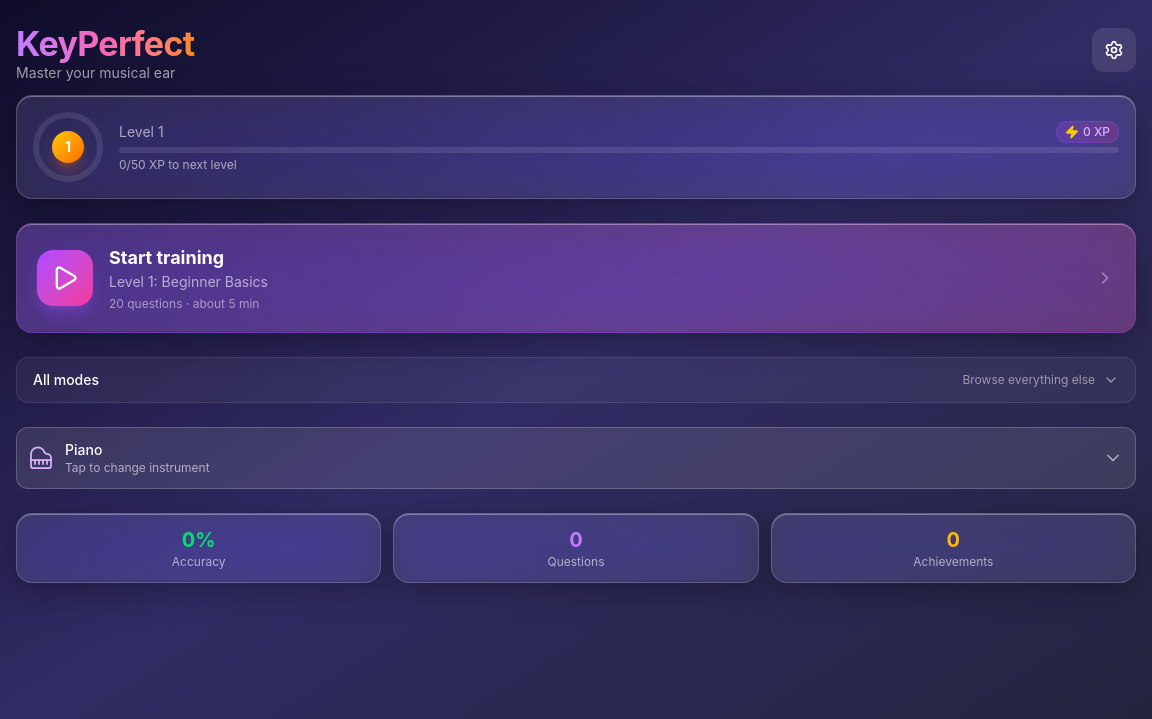
HomeScreen tile naming › offers each kind of training under exactly one name
Click the button "All modes Browse everything else": point(66, 380) [16,357,1136,403]
(page scrolled)
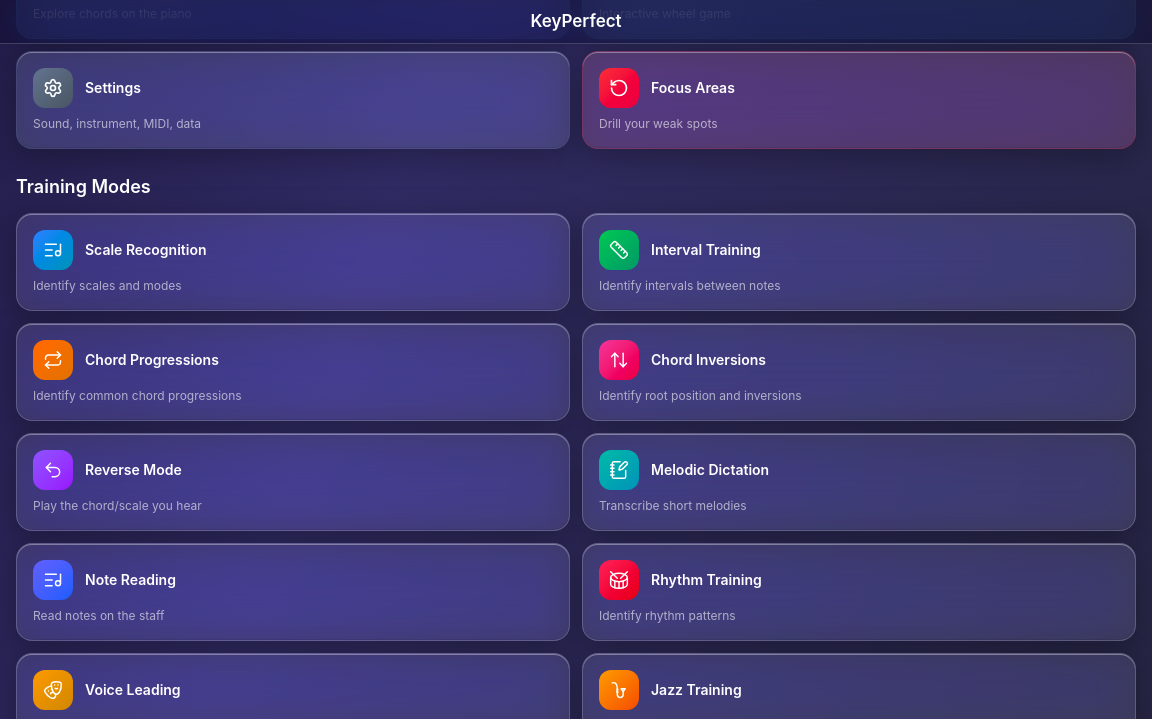
Check: the text "Progression" is shown 2 times
Check: the heading "Chord Progressions" is shown, box [85,350,219,370]
